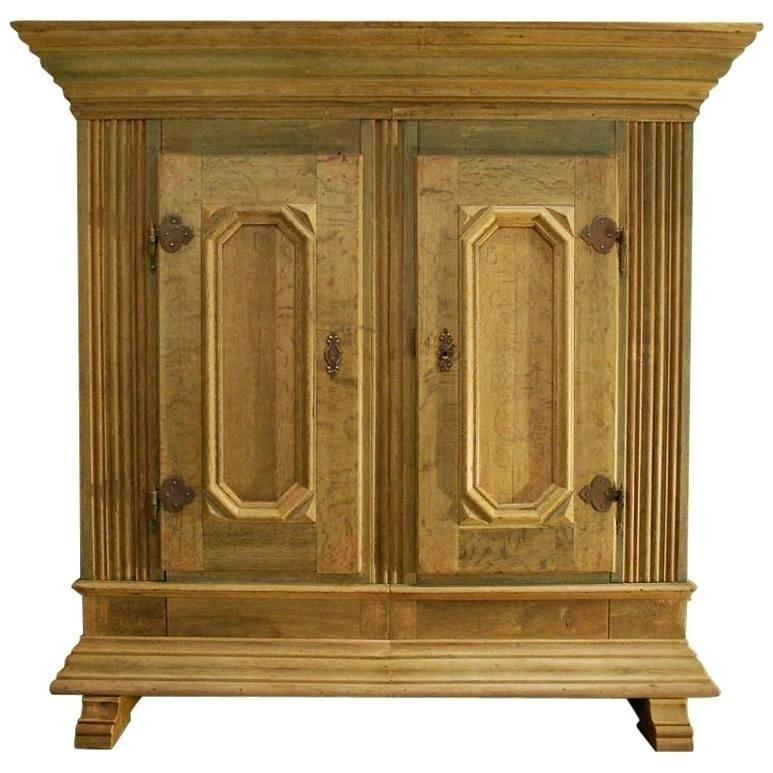Armario: (4, 9, 731, 753)
